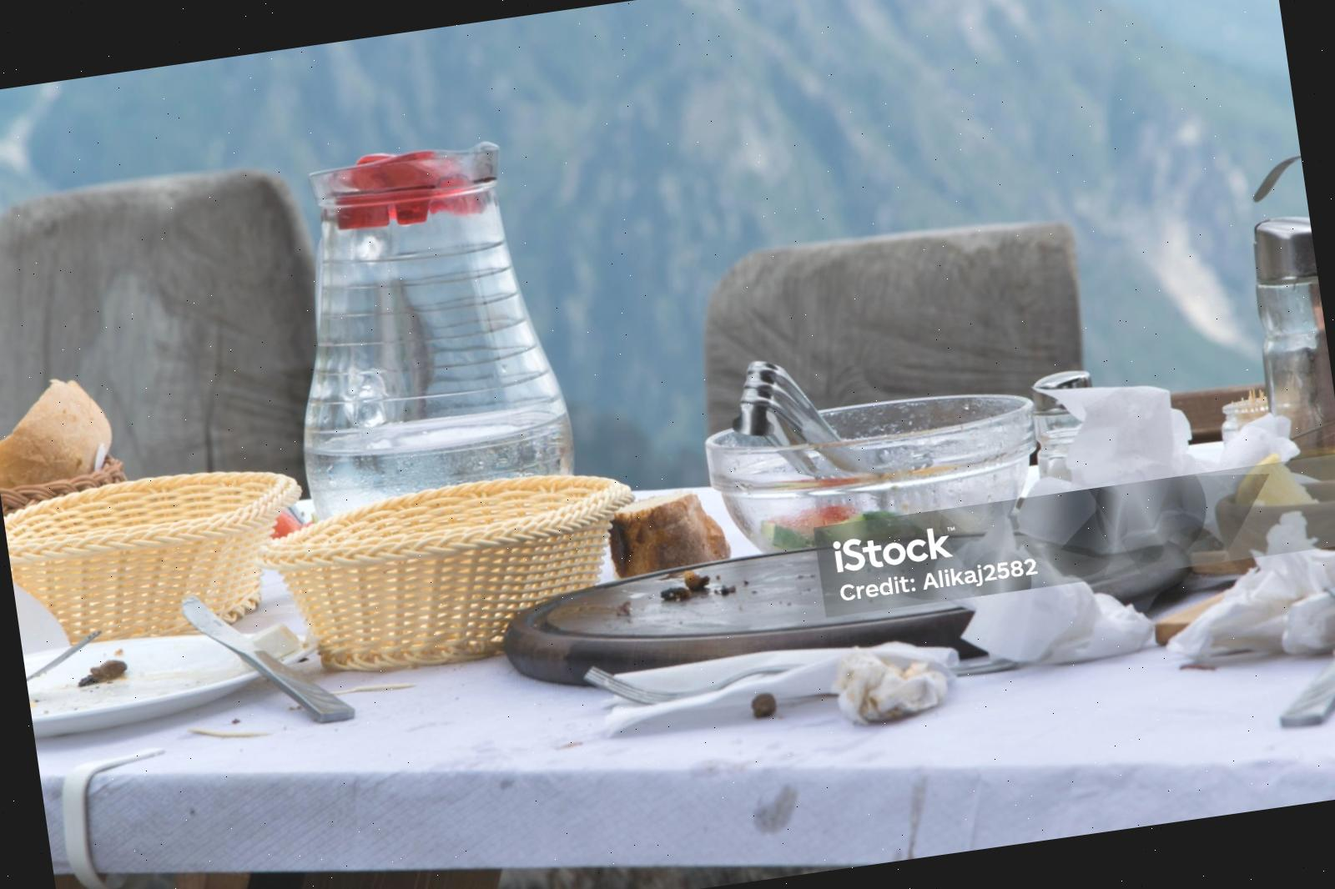Messy Table: (0, 164, 1335, 889)
